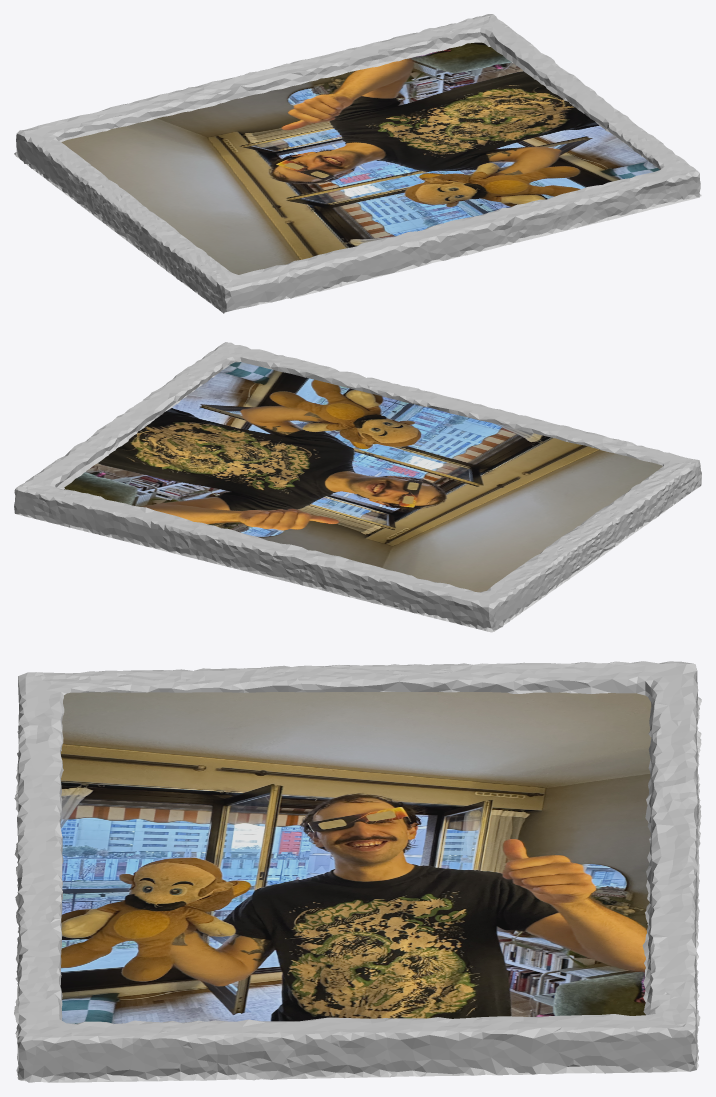
File: CadreMario.fbx
3 renders of one model, top to bottom at view 1: azimuth 30°, elevation 25°; view 2: azimuth 150°, elevation 25°; view 3: azimuth 270°, elevation 25°, orthographic. The views are drawn at different scales.
Parts seen in each view (by area): view 1: Cadre; view 2: Cadre; view 3: Cadre.
Boxes of the visible parts, box(x1,y1,x2,y2) form: Cadre: box(14, 14, 701, 313); Cadre: box(14, 342, 701, 632); Cadre: box(14, 661, 701, 1082).
Size of the model in its own units: 84.4 by 5.7 by 64.93.
